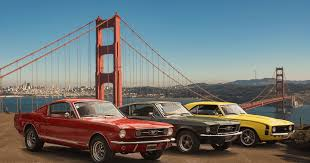car: (12, 99, 177, 163), (117, 102, 242, 153), (177, 102, 297, 146)
